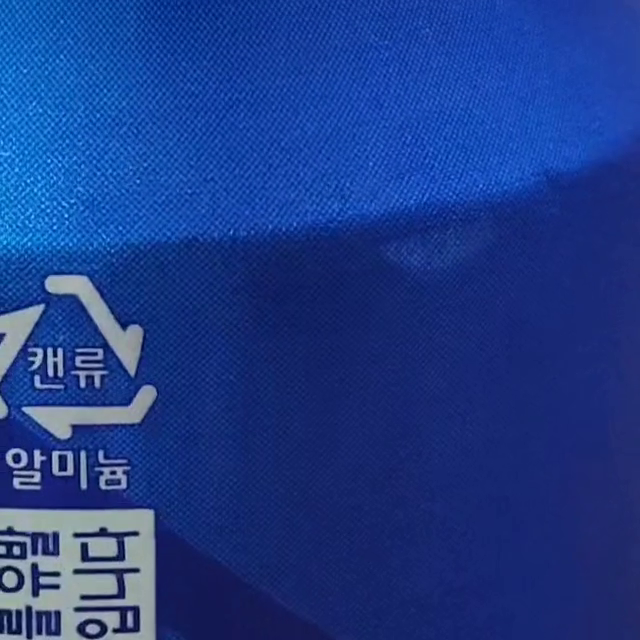Can: (0, 275, 157, 437)
